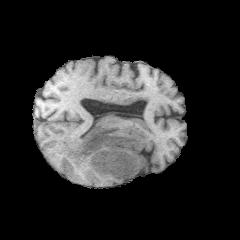glioma: (57, 125, 154, 182)
